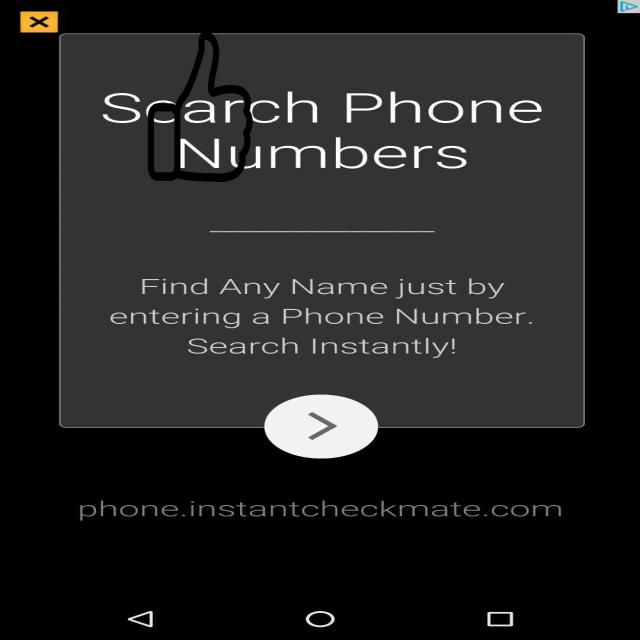privacy zuckering: (146, 31, 255, 182)
